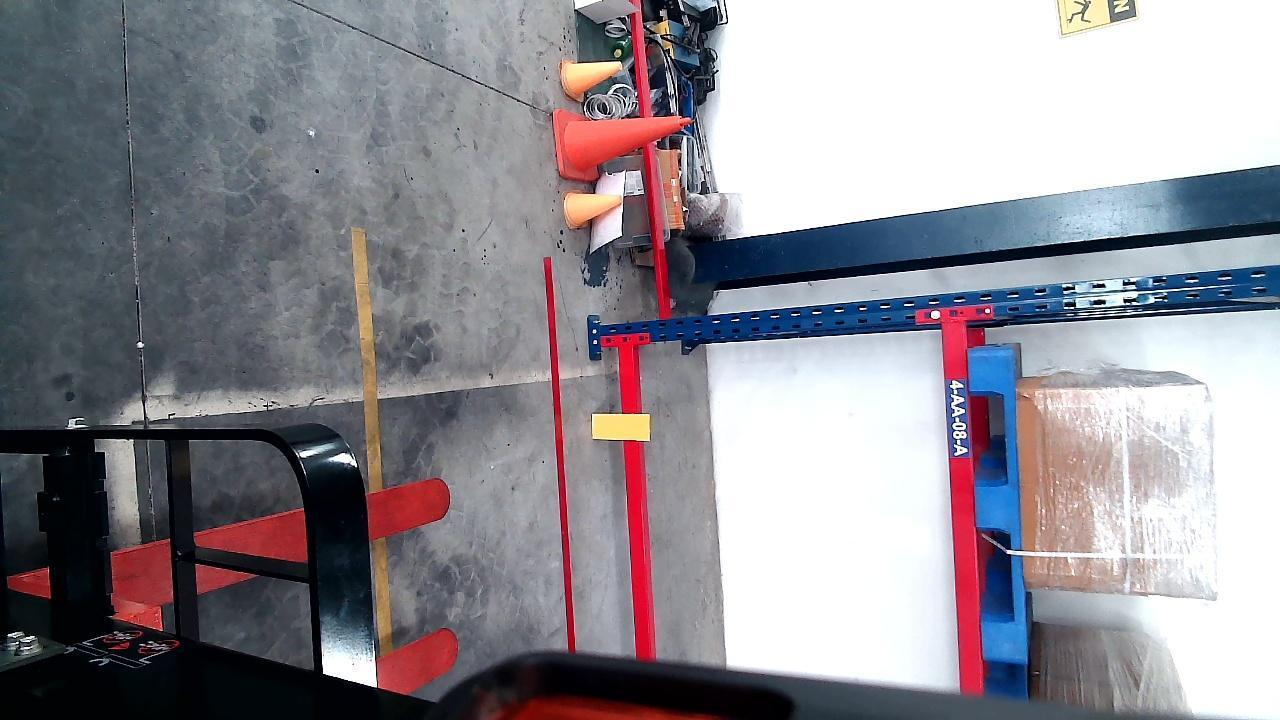h_rack: (944, 319, 980, 698), (620, 340, 649, 652)
orange_strip: (592, 412, 648, 441)
red_line: (544, 248, 576, 653)
small_pallet: (973, 347, 1023, 668)
yellow_line: (347, 221, 394, 652)
